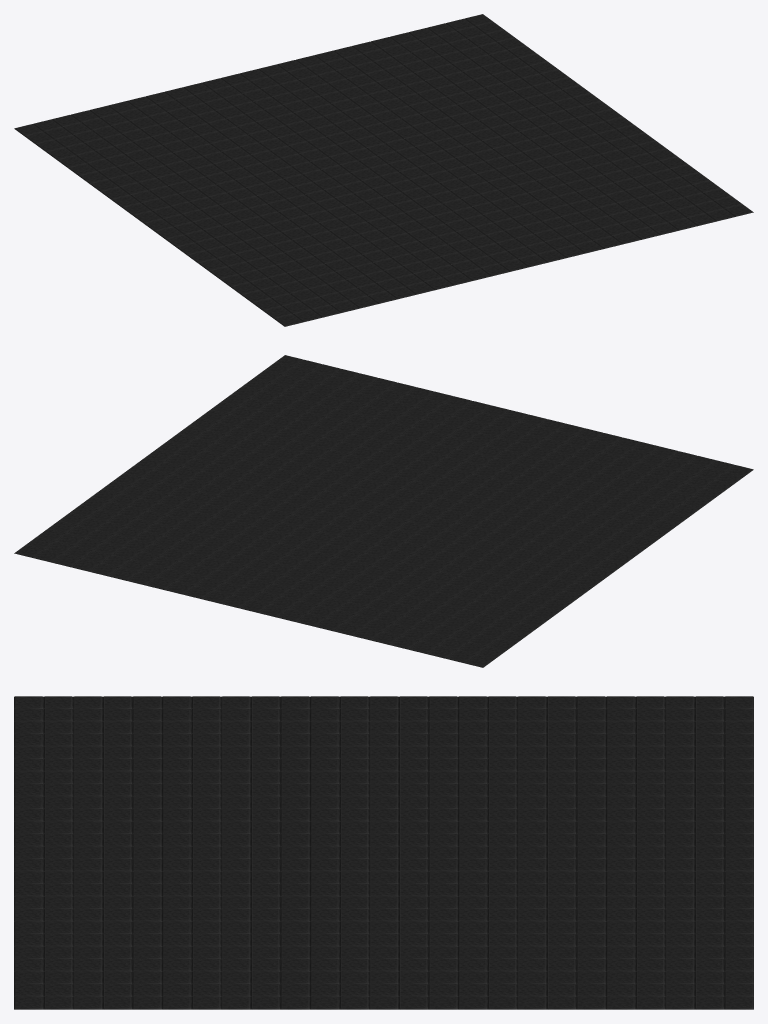
File: Tile.glb
3 views of the same model, one above another, from view 1: azimuth 30°, elevation 25°; view 2: azimuth 150°, elevation 25°; view 3: azimuth 270°, elevation 25° (orthographic). The views are drawn at different scales.
Visible parts, largest first — view 1: Cube; view 2: Cube; view 3: Cube.
Boxes of the visible parts, x1,y1,x2,y2 form: Cube: (14, 14, 753, 326); Cube: (14, 355, 753, 667); Cube: (14, 696, 753, 1009).
Size of the model in its own units: 50 by 0.068 by 50.
1 material, 1 textured.
